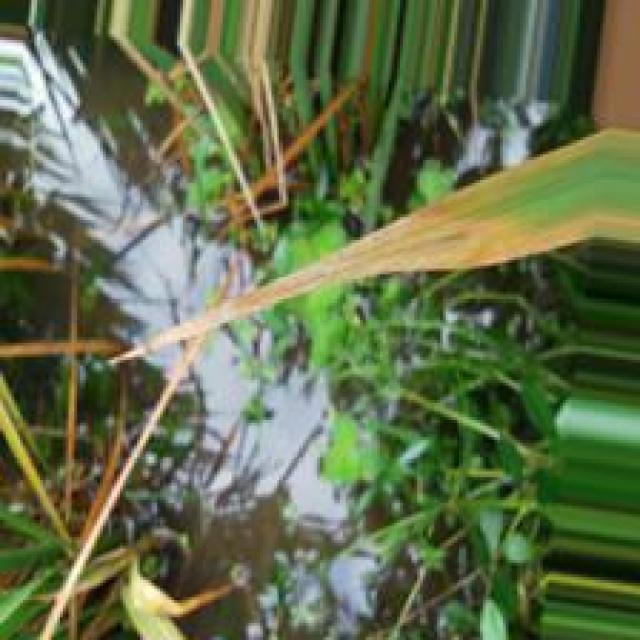Rice False Smut: (174, 178, 638, 338)
